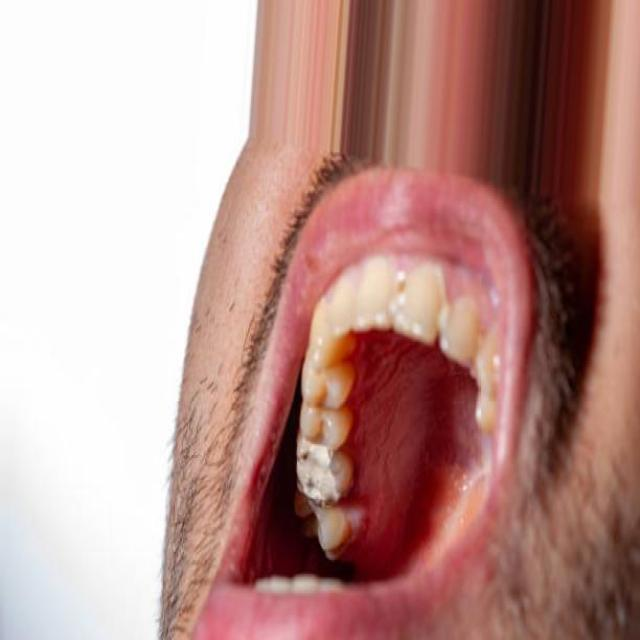caries: (295, 438, 347, 505)
